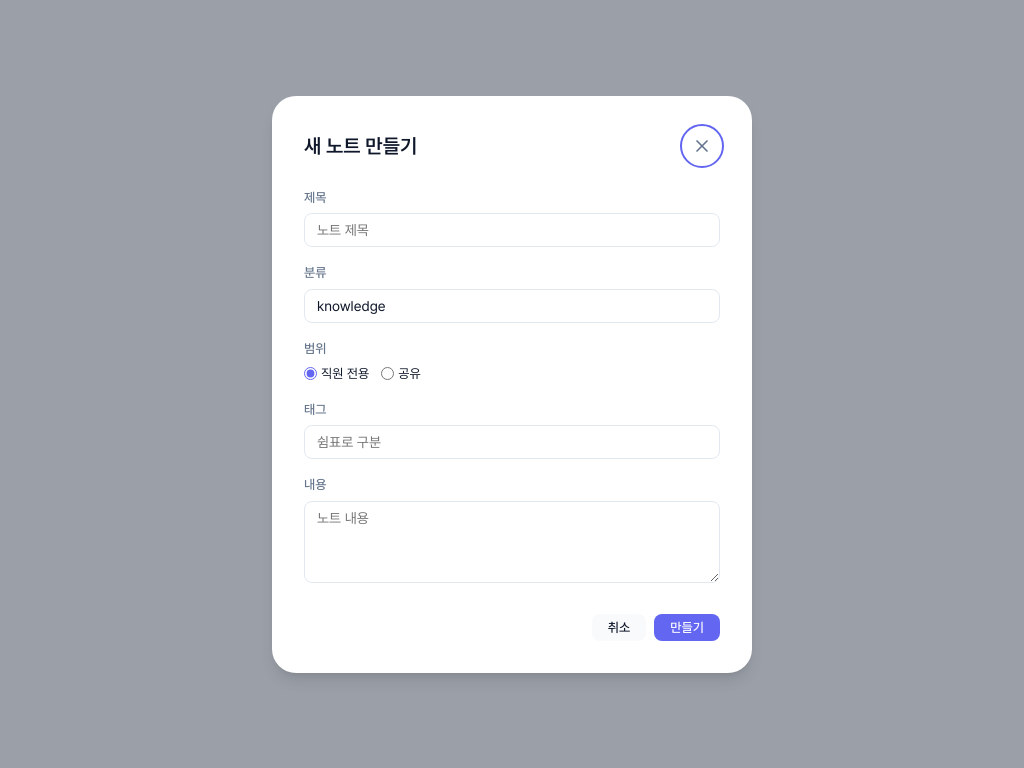
Test: CreateNoteDialog › shows error message when createNote fails
Type "My Note" into the field with placeholder "노트 제목" at [512, 230], box [304,213,720,247]
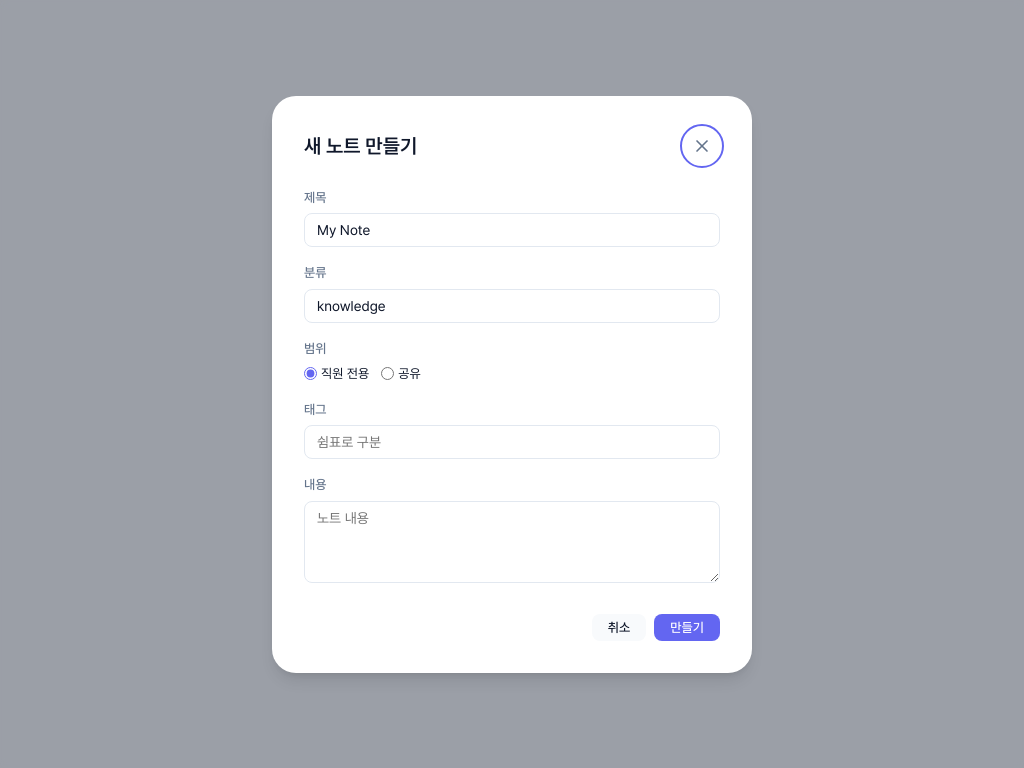
Click the button "만들기" at [687, 627], box [654,614,720,640]
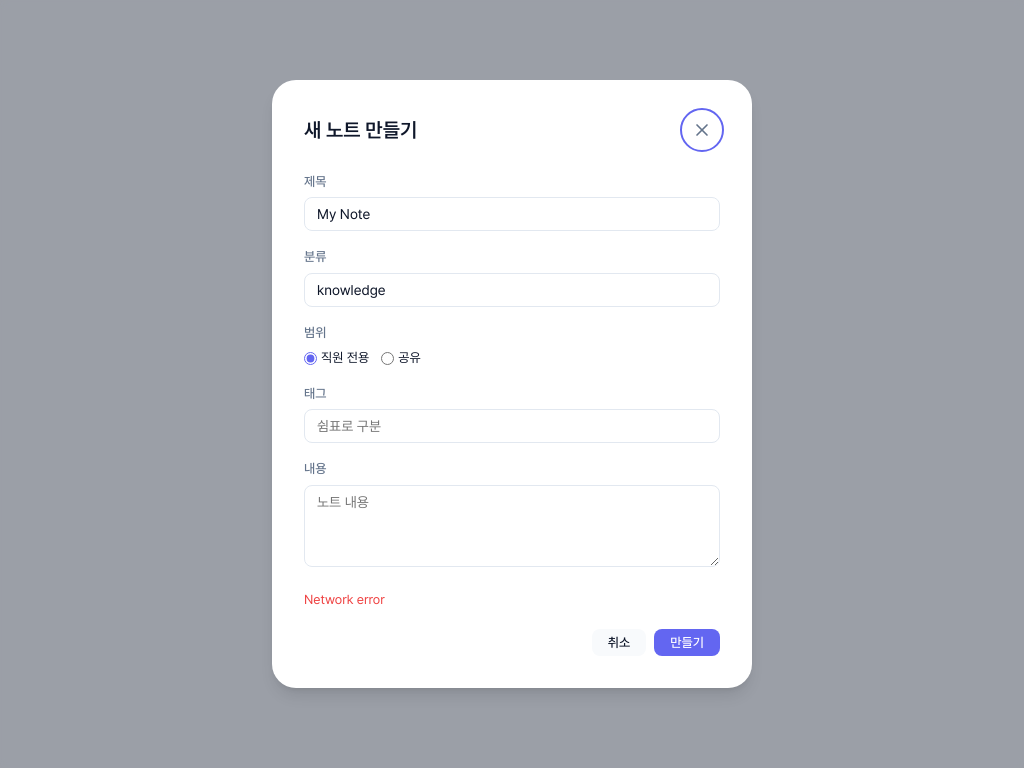
Check: the text "Network error" is shown, box [304,592,385,607]
